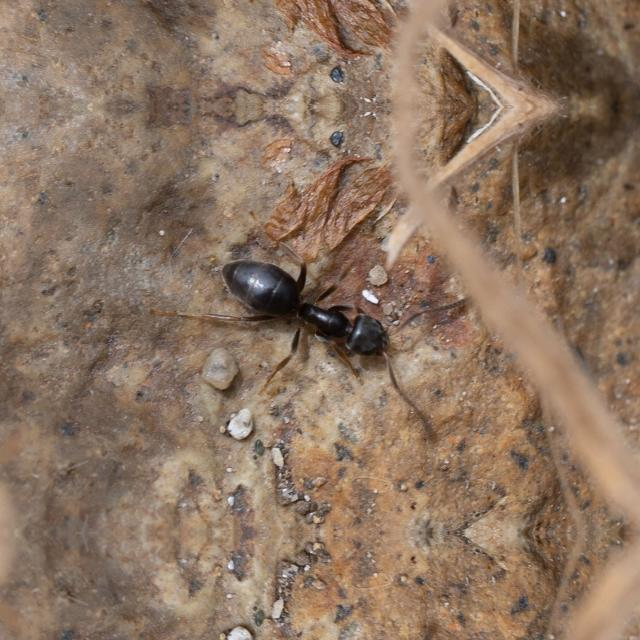Tapinoma: (190, 236, 434, 384)
